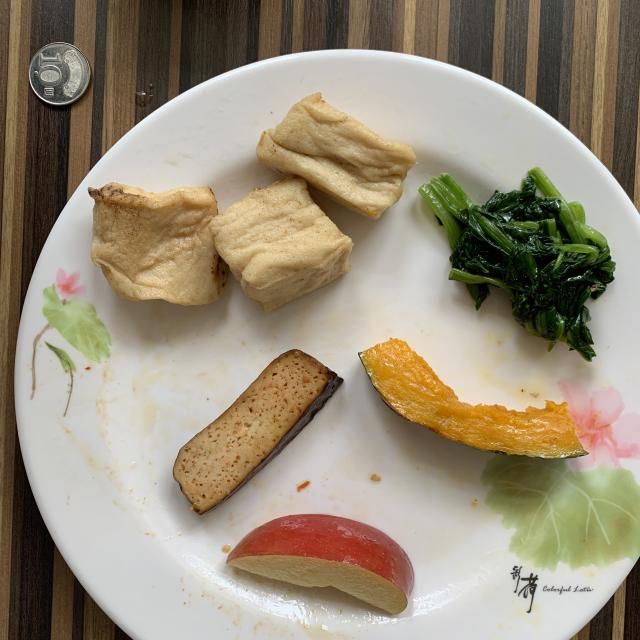apple -sliced-: (228, 515, 414, 614)
coin: (29, 42, 90, 105)
creamy tofu -without sauce-: (89, 94, 415, 312)
firm tofu: (172, 350, 344, 514)
mustard greens: (420, 169, 615, 360)
pumpkin: (359, 339, 586, 459)
